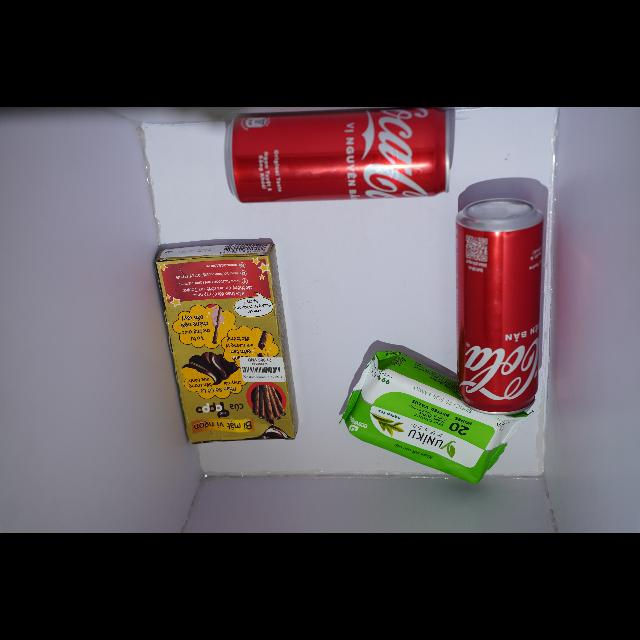banh_toppo_socola: (155, 244, 297, 443)
coca_cola: (227, 108, 451, 202), (457, 197, 544, 413)
khan_giay: (341, 351, 528, 484)
